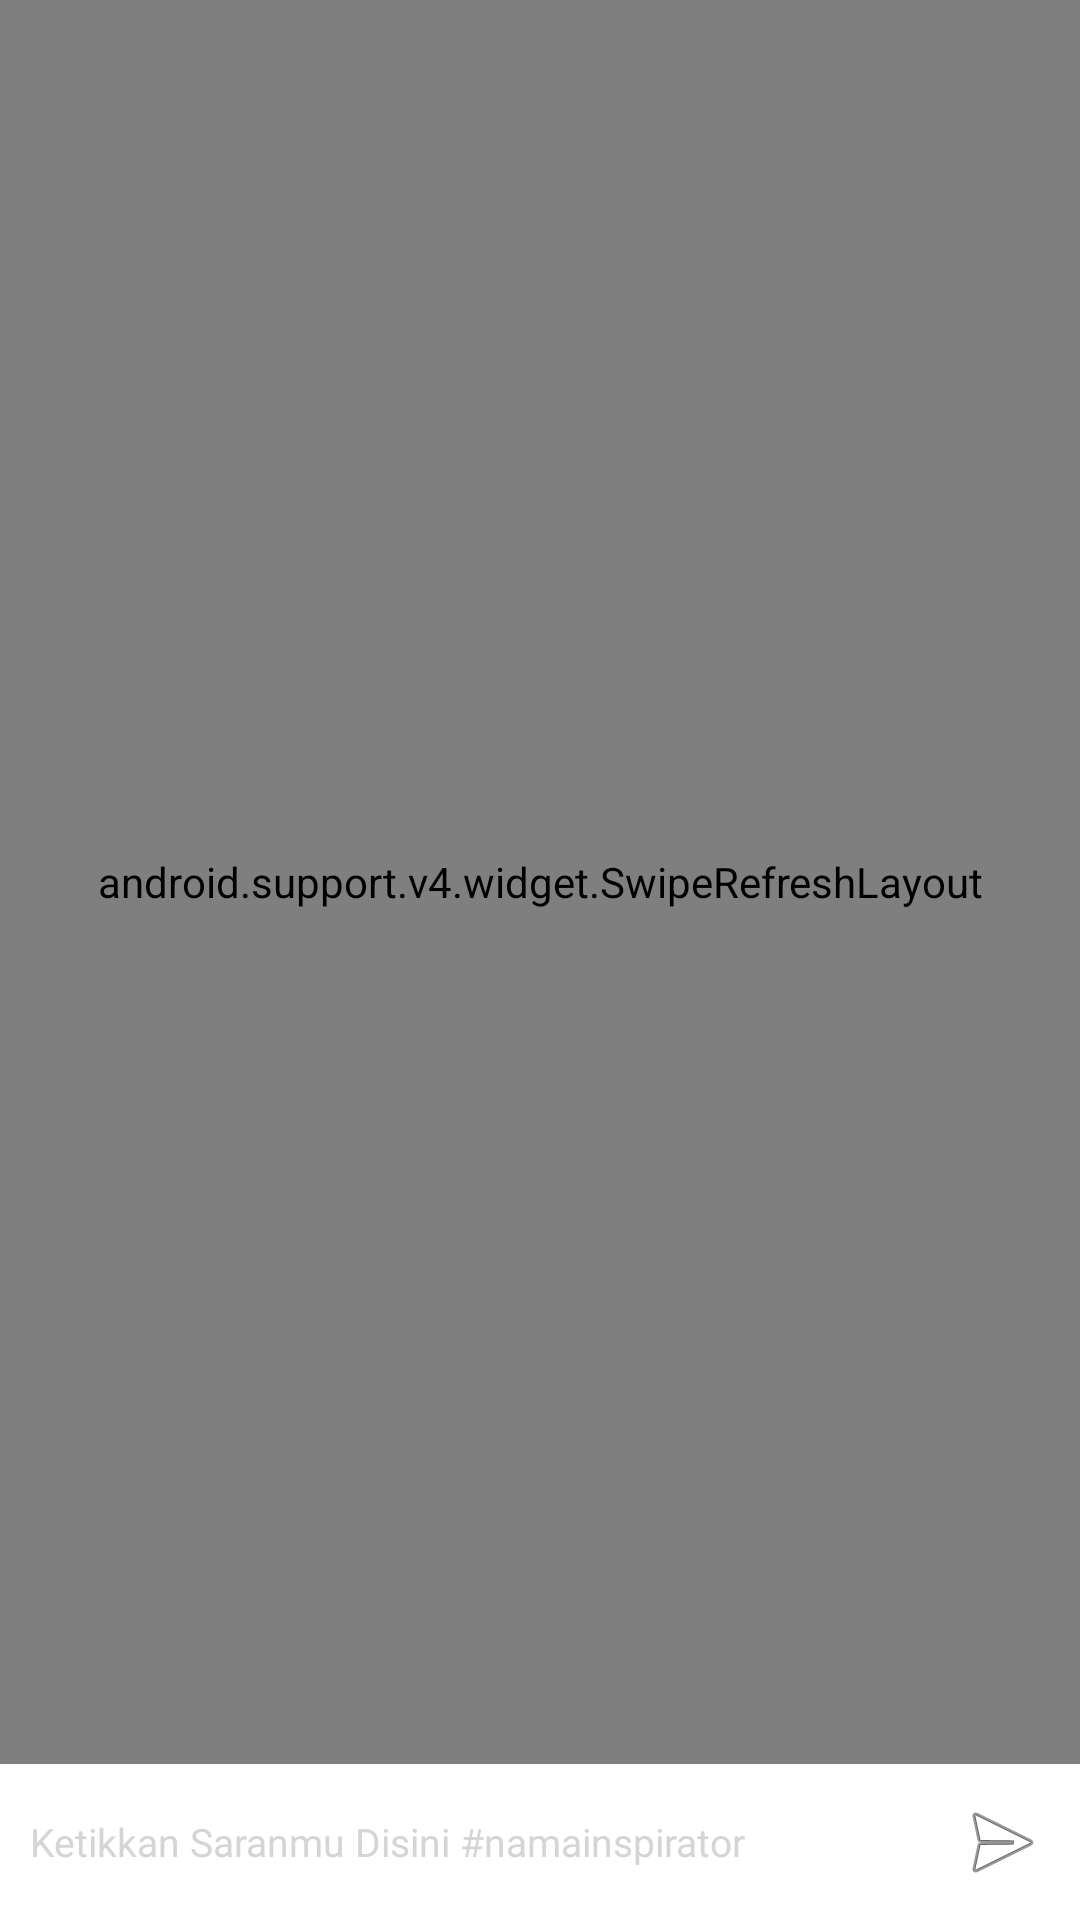

Where to tap for icons on this 1080×1920 app screen, as (x,y):
send: (1003,1842)
